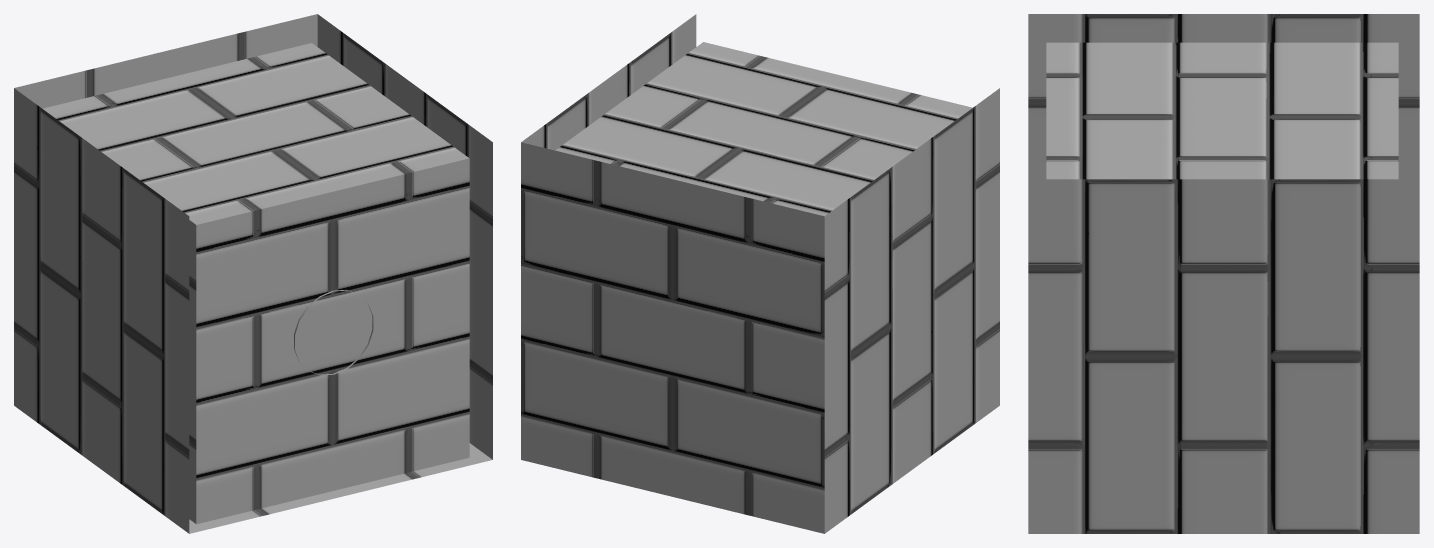
Rendered from Cheese.fbx.
3 views of the same model, side by side, from view 1: azimuth 30°, elevation 25°; view 2: azimuth 150°, elevation 25°; view 3: azimuth 270°, elevation 25° (orthographic). The views are drawn at different scales.
Visible parts, largest first — view 1: BrickBlock.001; view 2: BrickBlock.001; view 3: BrickBlock.001.
Boxes of the visible parts, box(x1,y1,x2,y2) form: BrickBlock.001: box(14, 14, 492, 533); BrickBlock.001: box(521, 14, 999, 533); BrickBlock.001: box(1028, 14, 1419, 533).
Size of the model in its own units: 4.16 by 4.16 by 4.16.
